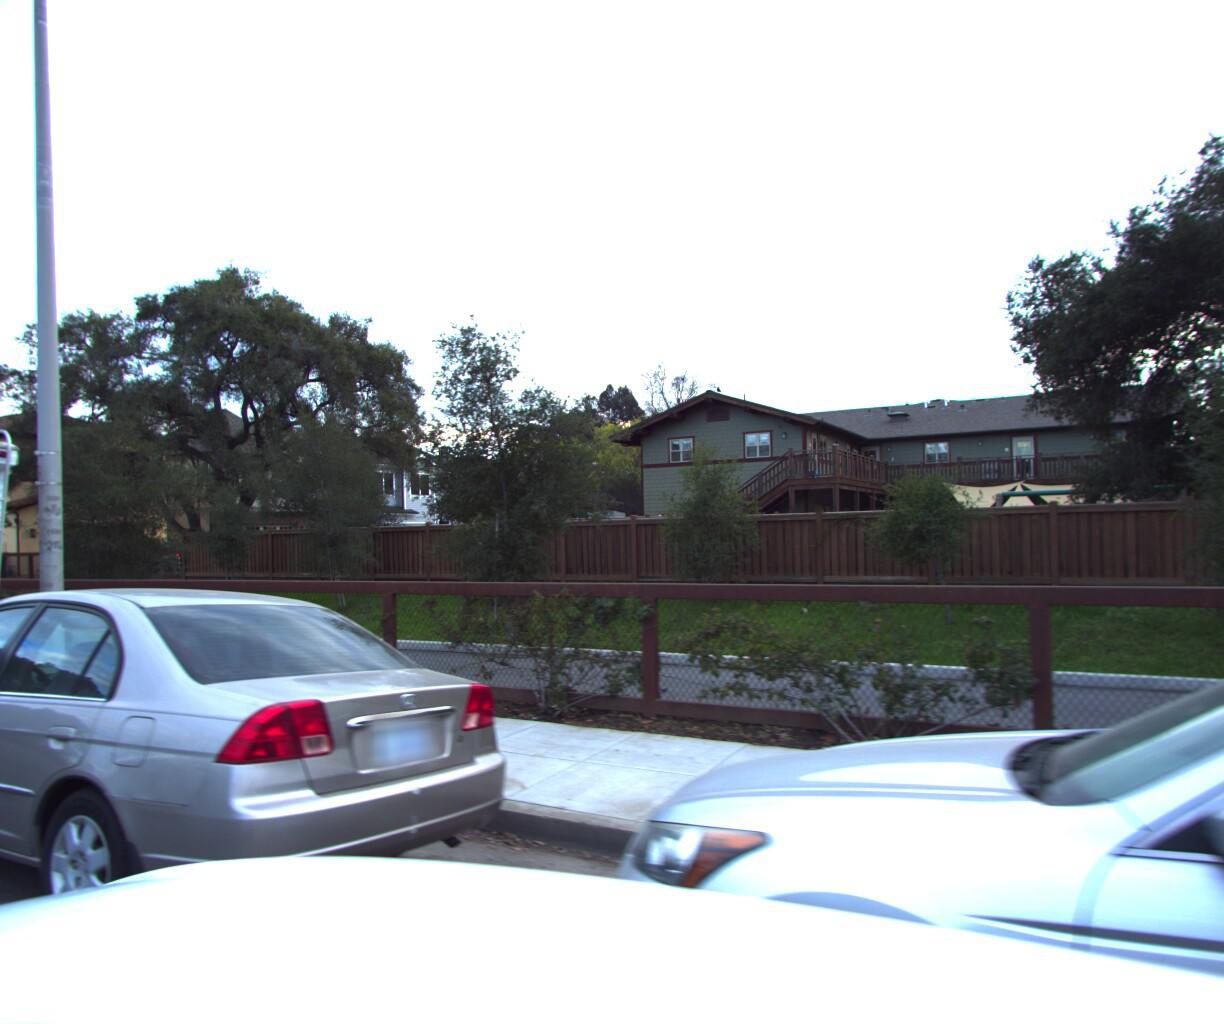car: (0, 561, 541, 1024)
other_vehicle: (0, 360, 48, 808)
